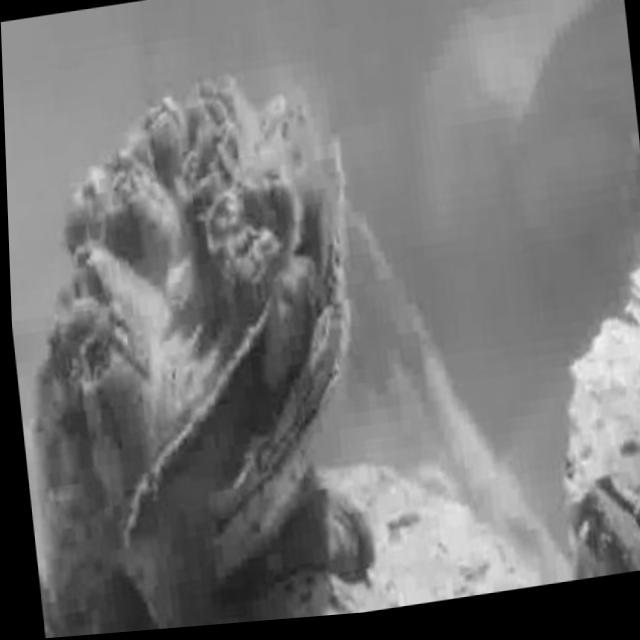Oyster-Indeterminate: (264, 461, 539, 620), (238, 490, 372, 605), (562, 318, 640, 501), (632, 267, 640, 302)
Oyster-Open: (37, 79, 352, 626), (571, 491, 640, 578)
